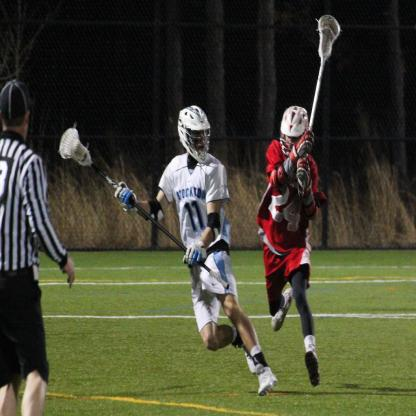Helmet: (174, 109, 216, 166), (279, 104, 308, 154)
